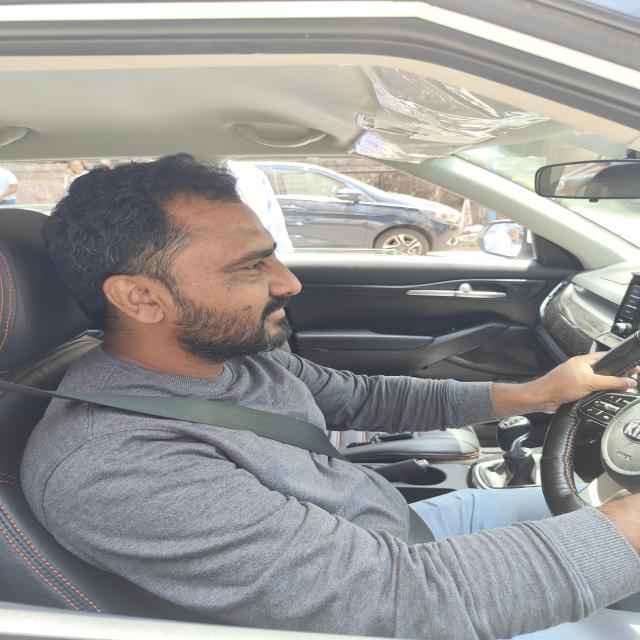seatbelt: (0, 321, 386, 481)
